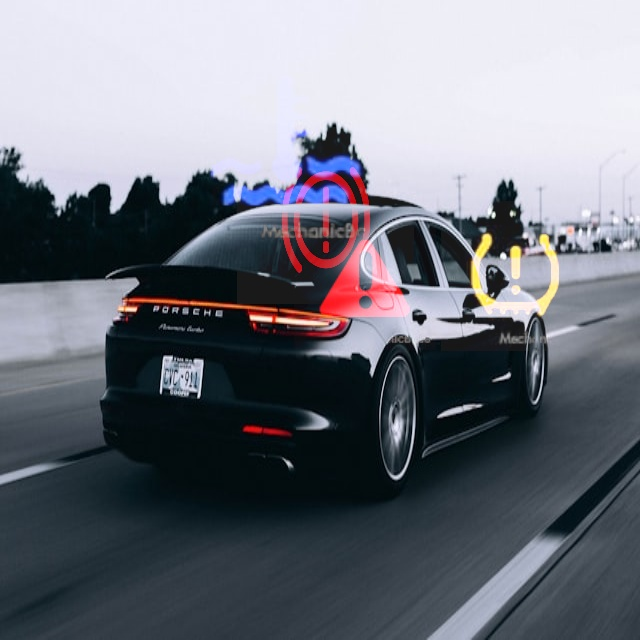symbol: (176, 31, 394, 249), (237, 127, 414, 304), (441, 201, 591, 351), (294, 208, 436, 350)
